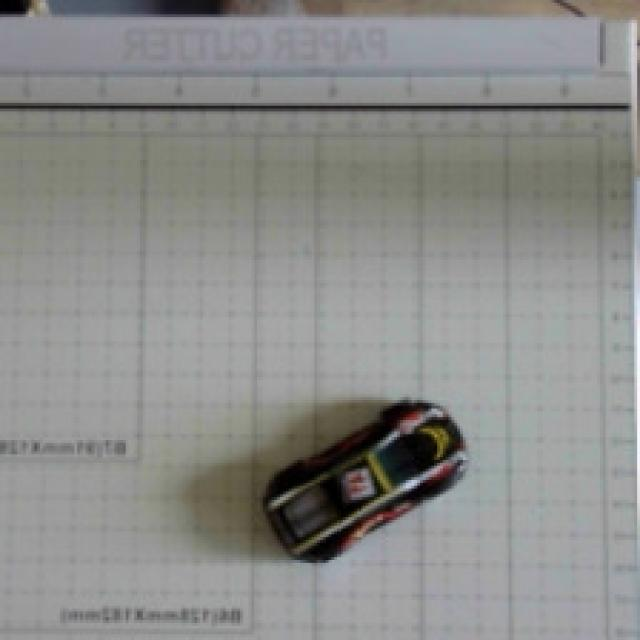Red Car: (247, 375, 498, 583)
